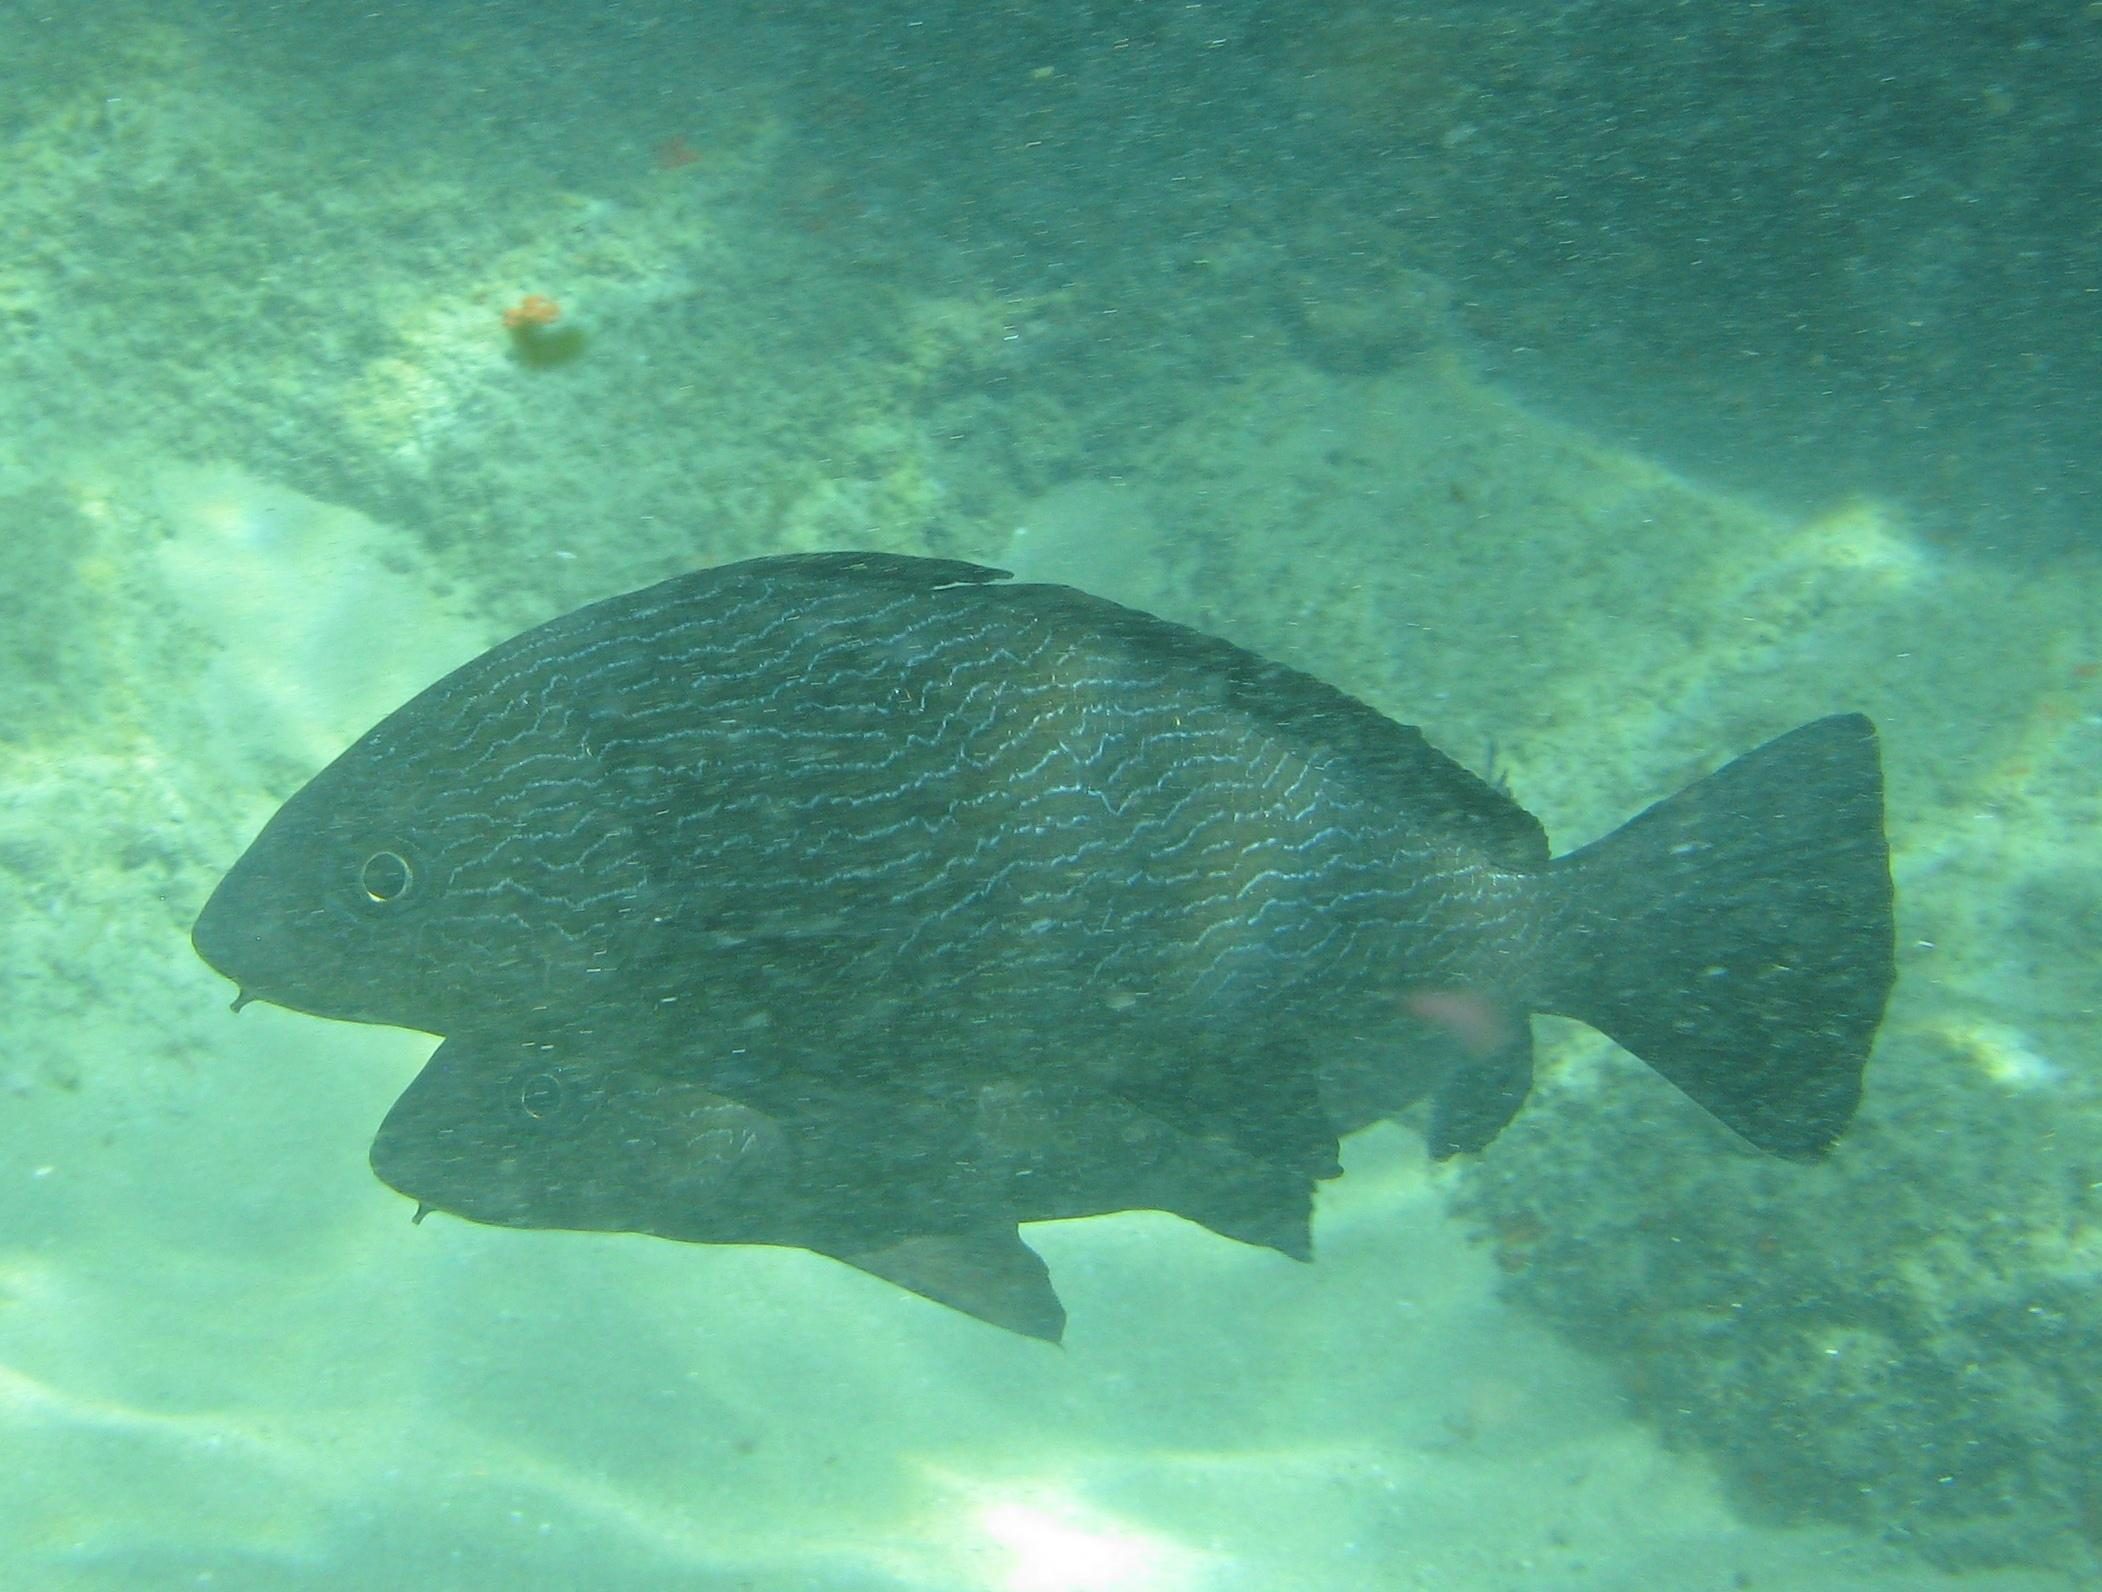Fish: (184, 523, 1908, 1356)
